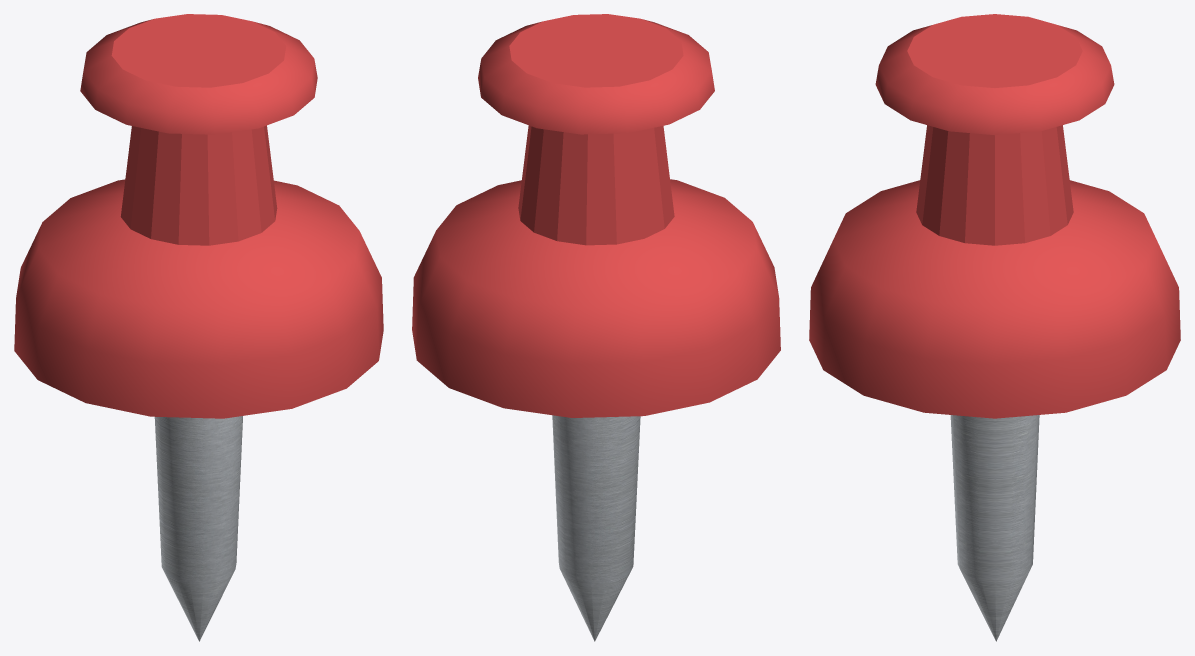
Rendered from Pin.FBX.
3 views of the same model, side by side, from view 1: azimuth 30°, elevation 25°; view 2: azimuth 150°, elevation 25°; view 3: azimuth 270°, elevation 25° (orthographic).
Parts seen in each view (by area): view 1: Pin; view 2: Pin; view 3: Pin.
Part boxes in pixels (x1=…): Pin: x1=14, y1=14, x2=383, y2=641; Pin: x1=412, y1=14, x2=780, y2=641; Pin: x1=809, y1=14, x2=1180, y2=641.
Bounding box in the file's own units: 0.7874 × 1.38 × 0.7874.
Materials: 1 (1 with a texture image).
